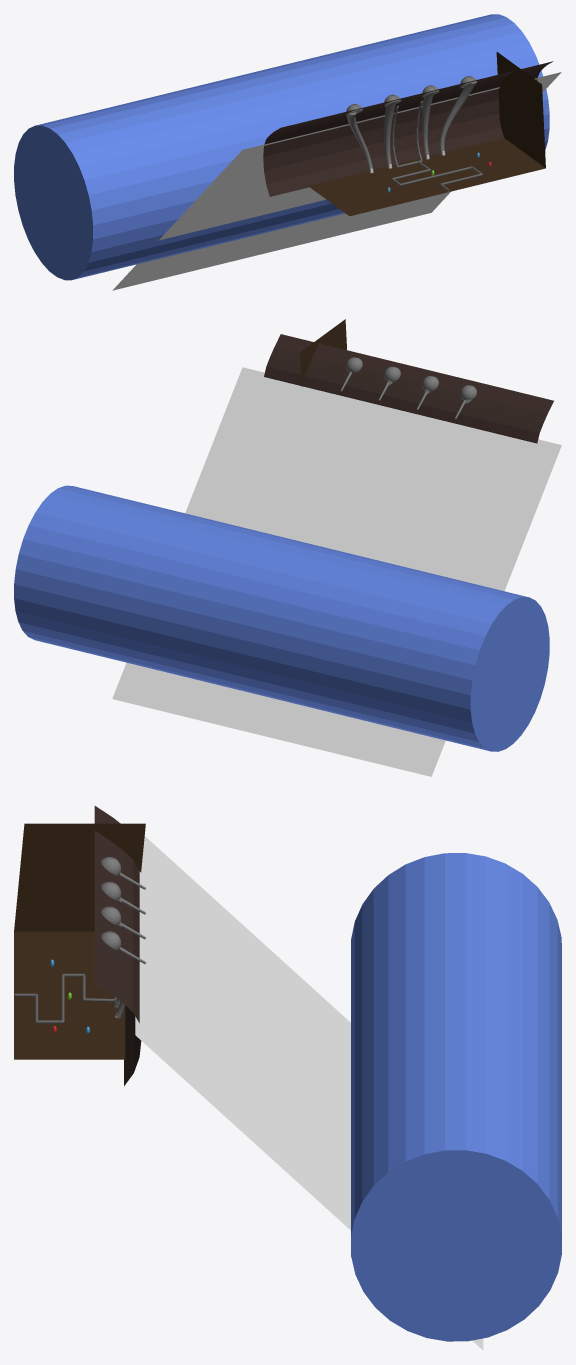
Rendered from Scene_Sketch_02.fbx.
The picture shows the model from 3 angles, top to bottom: view 1: azimuth 30°, elevation 25°; view 2: azimuth 150°, elevation 25°; view 3: azimuth 270°, elevation 25°; orthographic projection. The views are drawn at different scales.
Visible parts, largest first — view 1: Cylinder.003, Plane.006, Plane.007, Plane.004, BezierCurve.003, Sphere.029, Sphere.021, Sphere.025, Sphere.027, Sphere.023; view 2: Cylinder.003, Plane.007, Plane.006, Sphere.021, Plane.004; view 3: Cylinder.003, Plane.007, Plane.004, Plane.006, Sphere.021, BezierCurve.003.
Part boxes in pixels (x1,y1,x2,y2): Cylinder.003: (14,14,549,280); Plane.006: (263,61,553,196); Plane.007: (112,72,561,290); Plane.004: (308,52,545,216); BezierCurve.003: (391,101,482,191); Sphere.029: (439,81,476,155); Sphere.021: (346,76,477,115); Sphere.025: (384,102,396,168); Sphere.027: (422,92,433,159); Sphere.023: (346,112,373,173); Cylinder.003: (14,485,549,751); Plane.007: (112,367,561,776); Plane.006: (264,334,553,443); Sphere.021: (340,357,476,419); Plane.004: (300,319,346,386); Cylinder.003: (351,853,561,1341); Plane.007: (135,836,483,1350); Plane.004: (14,823,145,1059); Plane.006: (94,806,141,1085); Sphere.021: (101,857,146,963); BezierCurve.003: (14,973,117,1023).
Bounding box in the file's own units: 13371 × 7531 × 10418.
